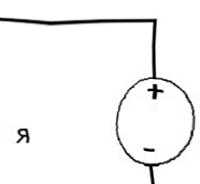Battery: (93, 68, 197, 172)
